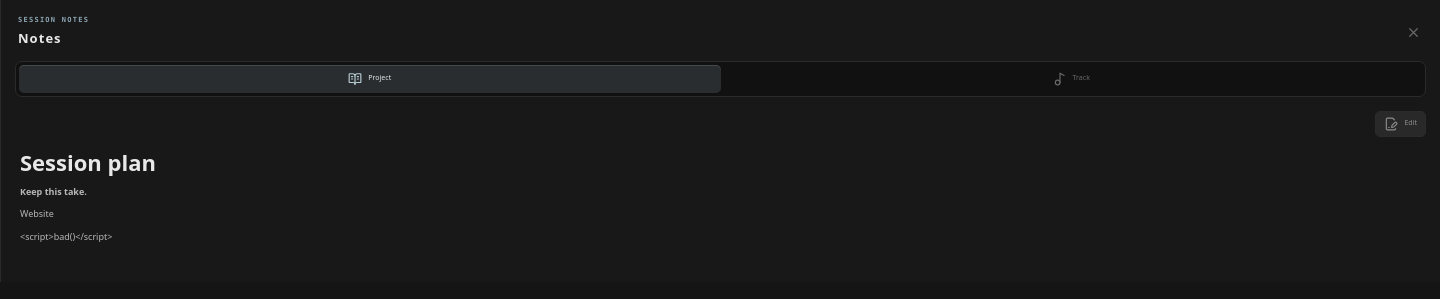
Scenario: NotesPanel › explains that track notes need a selected timeline track
What coordinates should you click on to do the following:
click the tab "Track"
I would click on:
 (1071, 78)
Its box is [720,64,1422,92].
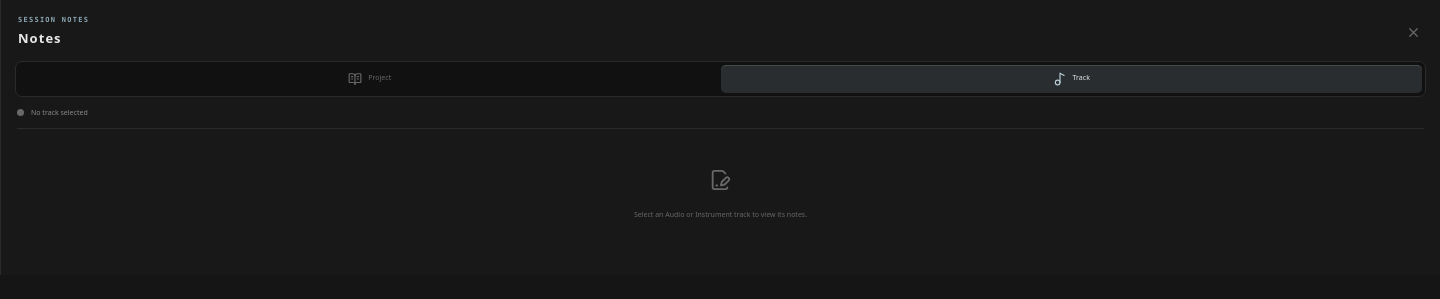
Check: the text "Select an Audio or Instrument track" is shown, box [634,210,807,219]
